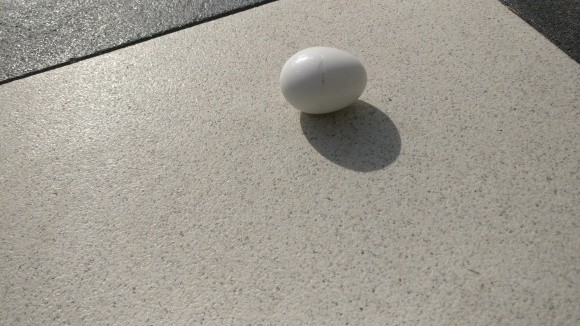egg: (279, 44, 368, 116)
